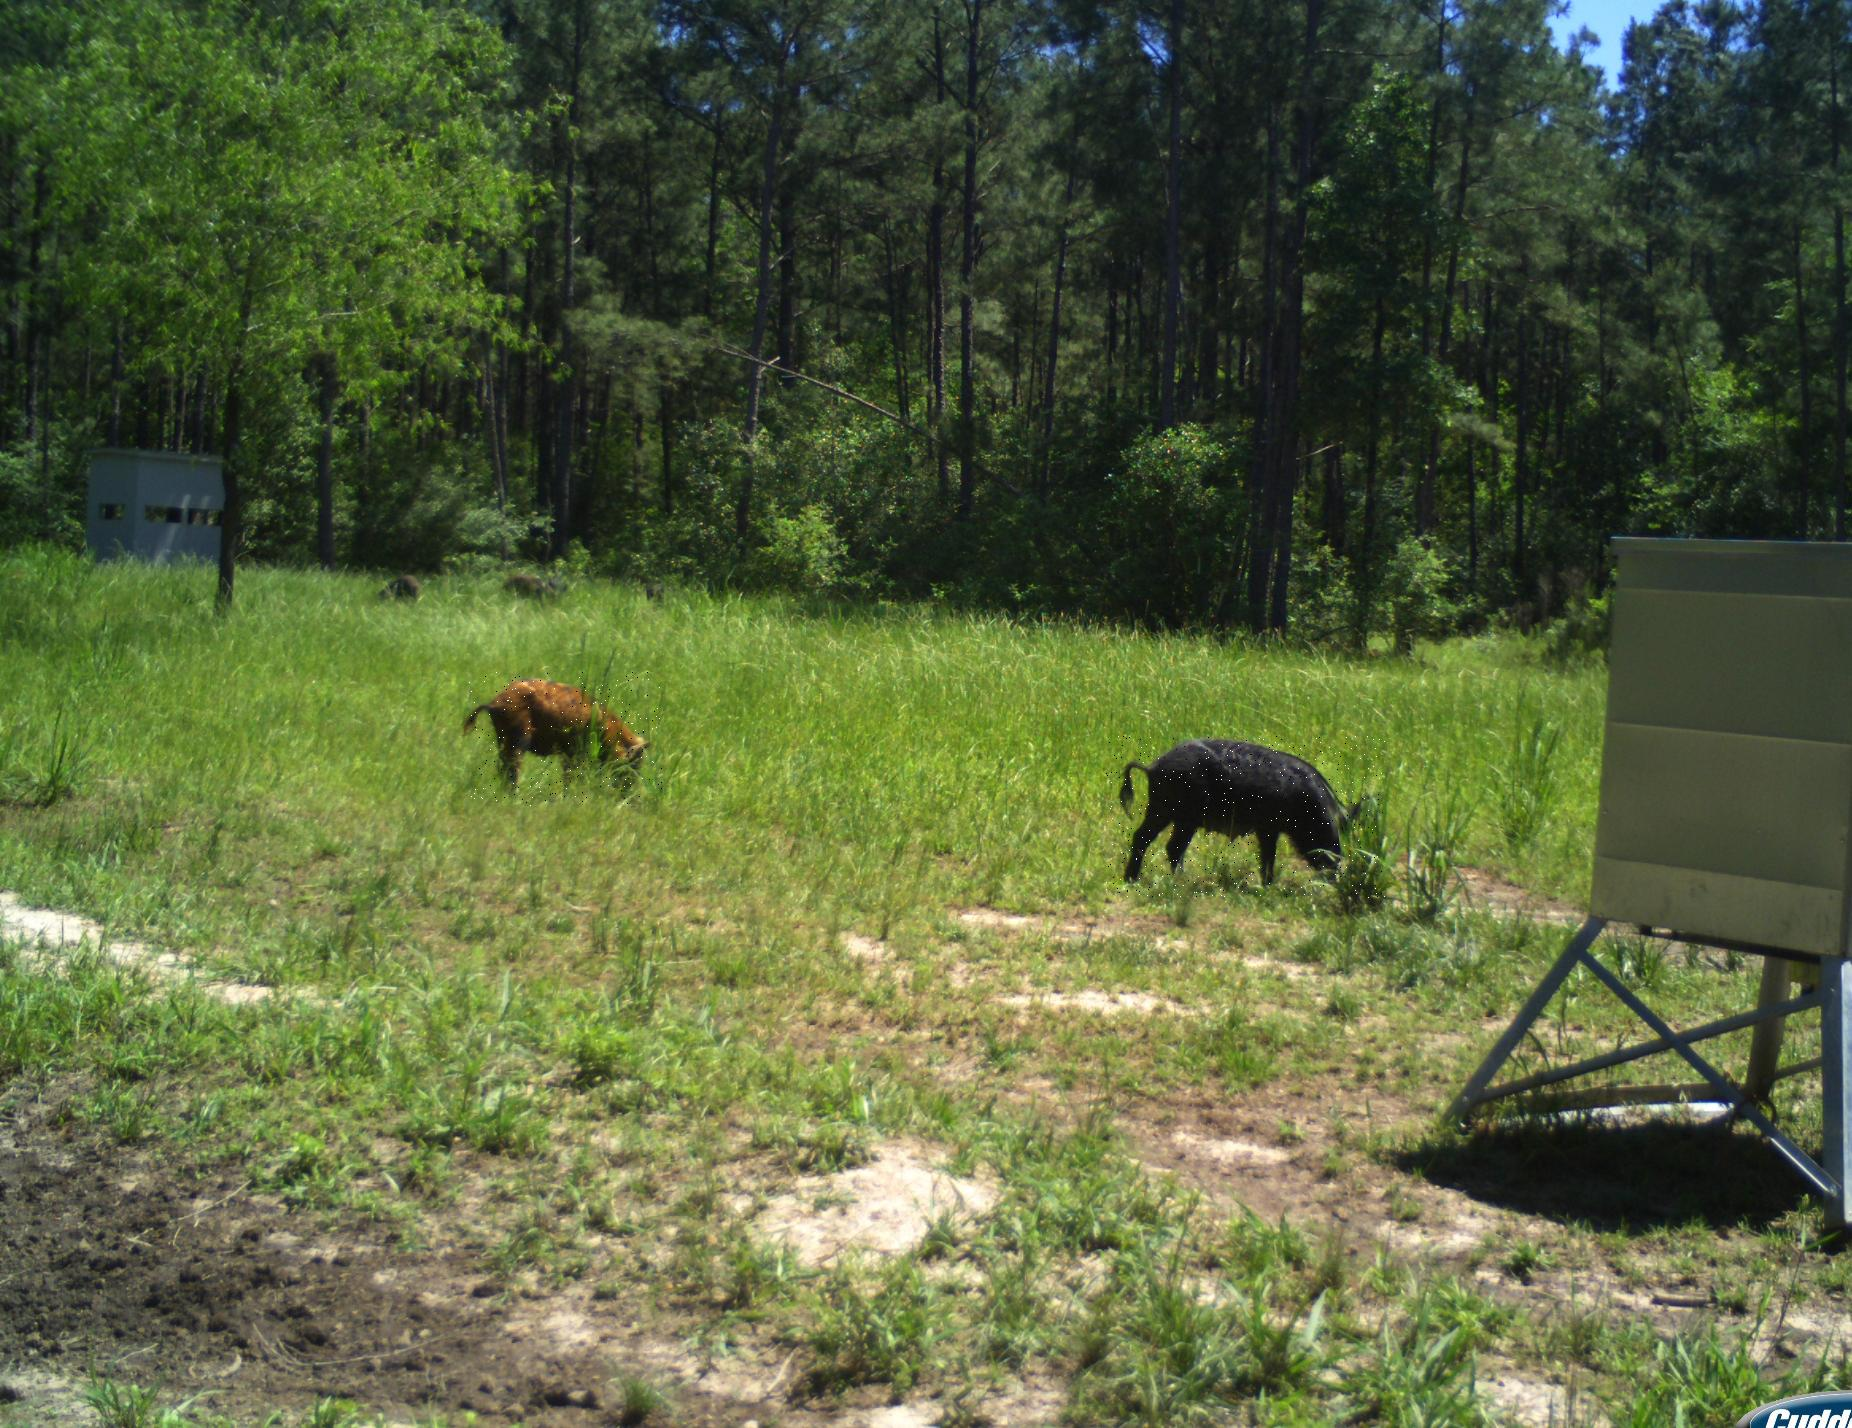Hog: (1105, 736, 1386, 898), (468, 672, 663, 805)
